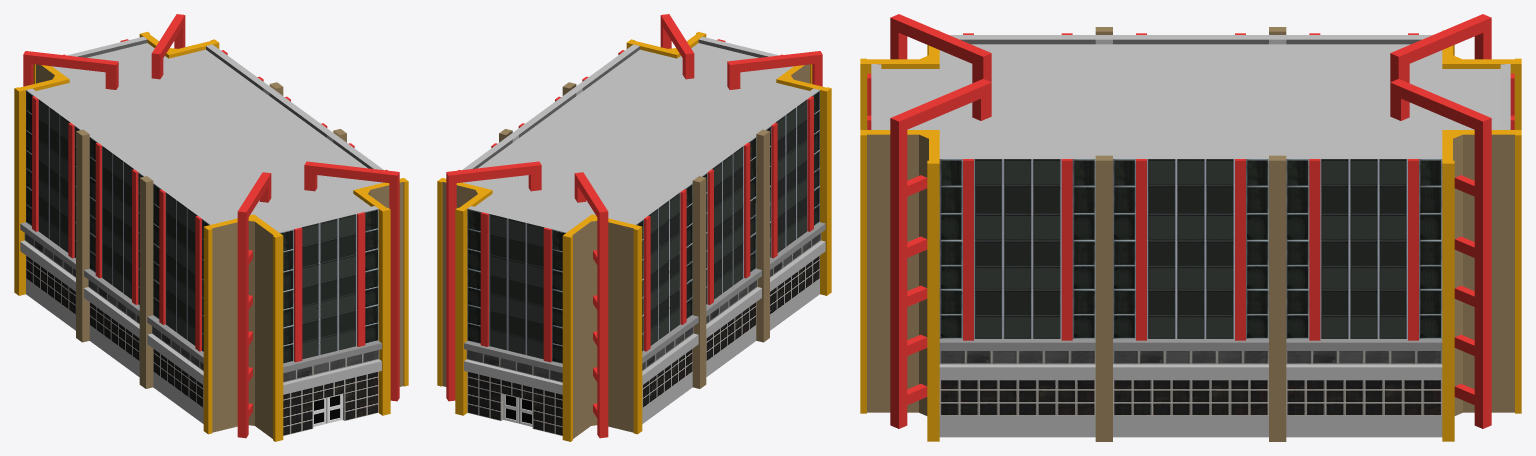
3 views of the same model, side by side, from view 1: azimuth 30°, elevation 25°; view 2: azimuth 150°, elevation 25°; view 3: azimuth 270°, elevation 25° (orthographic). The views are drawn at different scales.
Parts seen in each view (by area): view 1: Building; view 2: Building; view 3: Building.
Boxes of the visible parts, x1,y1,x2,y2 form: Building: (14,14,408,441); Building: (437,14,831,441); Building: (860,14,1521,441).
Size of what is drawn, in the model's own units: 17.5 by 18.78 by 36.62.
